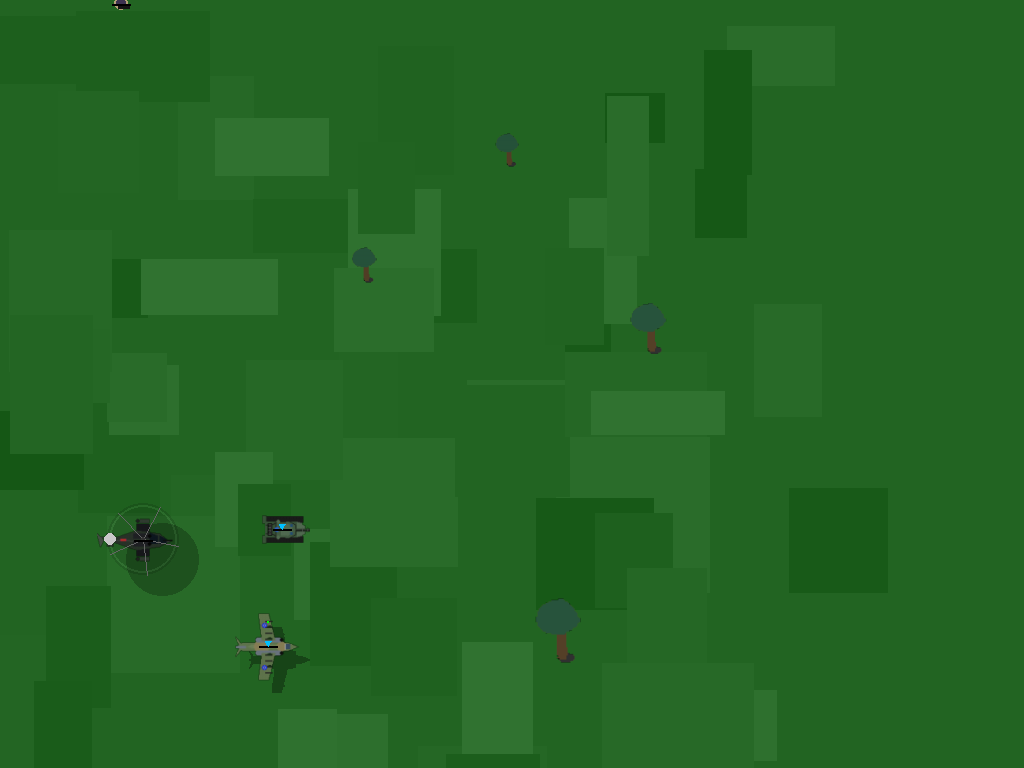AttackPlane_rus: (245, 622, 290, 667)
M1A2_rus: (258, 504, 307, 553)
RocketTrooper: (107, 0, 136, 29)
WZ10: (113, 510, 171, 568)
